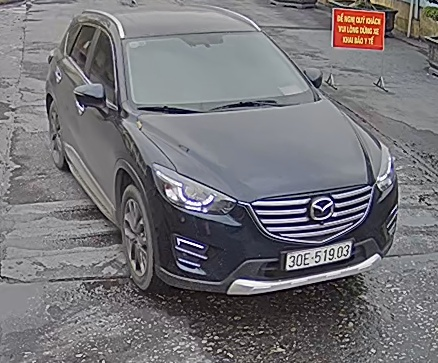vehicle plate: (280, 241, 355, 272)
